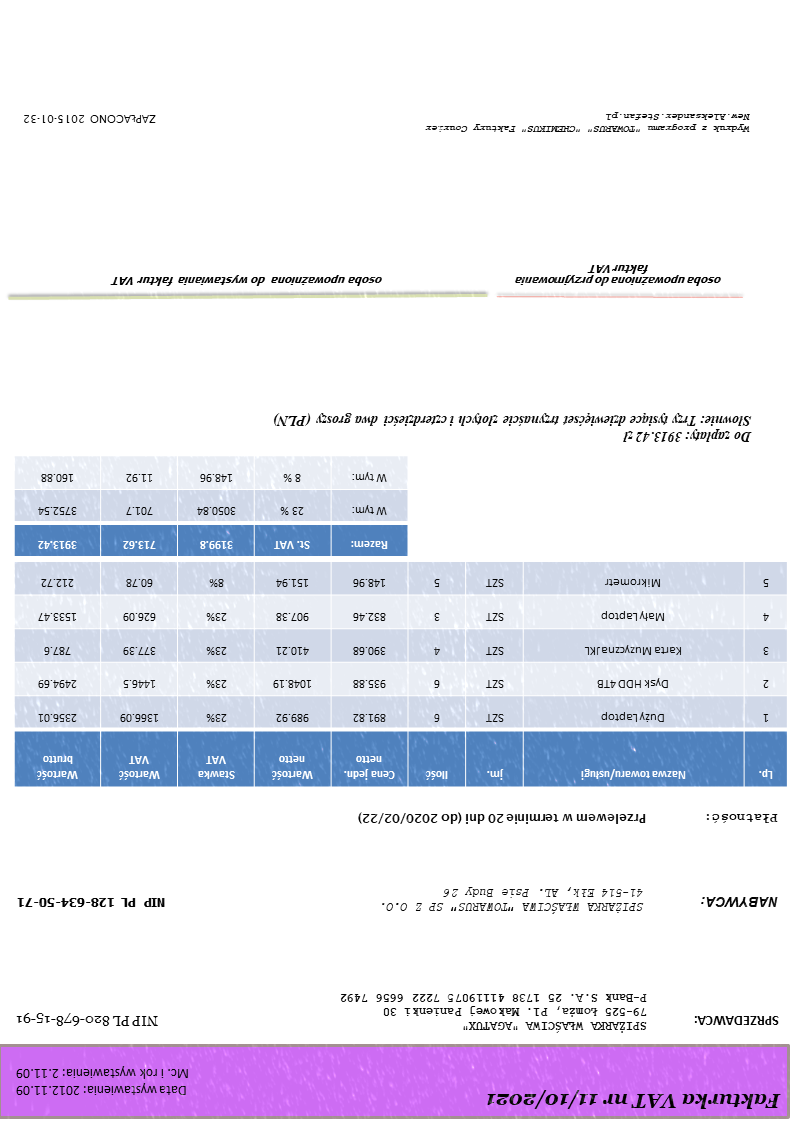Table: (14, 561, 790, 790), (14, 455, 409, 558)
TextBox: (271, 410, 755, 447), (339, 990, 652, 1035), (423, 109, 754, 136), (378, 885, 647, 916), (485, 1089, 784, 1113), (13, 1066, 193, 1100), (514, 262, 724, 290), (107, 271, 385, 290), (356, 809, 649, 826), (16, 894, 168, 912), (15, 1011, 163, 1029), (22, 109, 160, 128), (693, 1013, 782, 1030), (700, 894, 781, 912), (703, 810, 780, 828)
